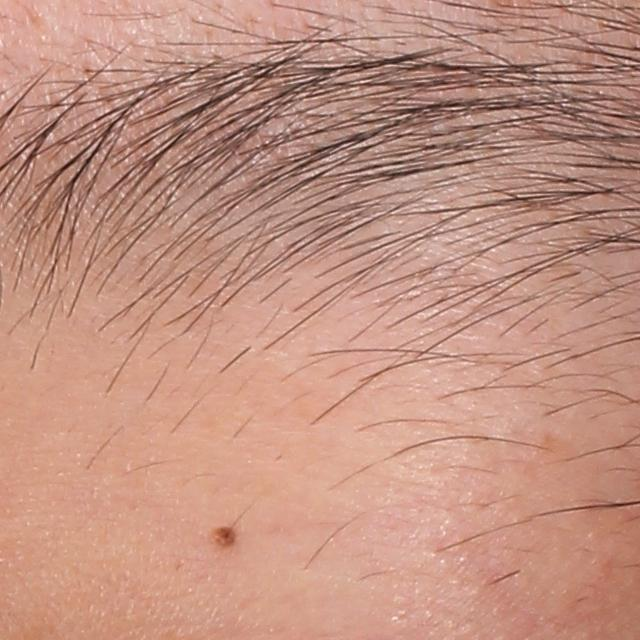nevus: (205, 519, 239, 554)
